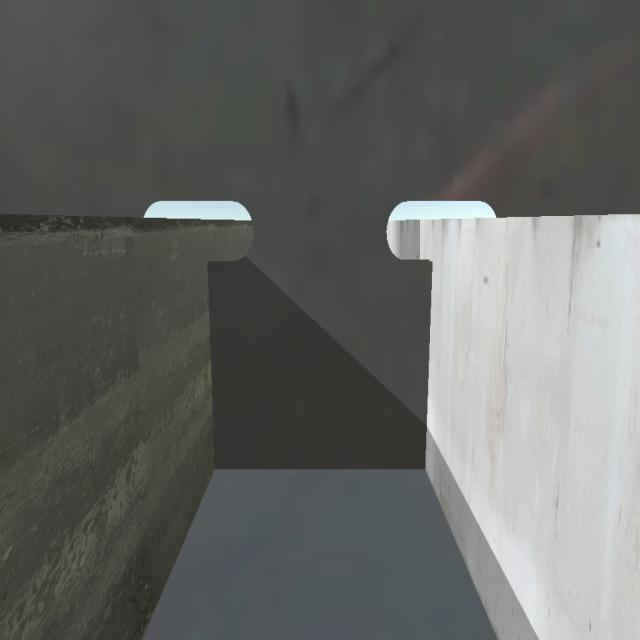fillet_yong_jeop_jang: (208, 456, 431, 476)
longi_yong_jeop_jang: (418, 252, 434, 478), (203, 258, 216, 474)
